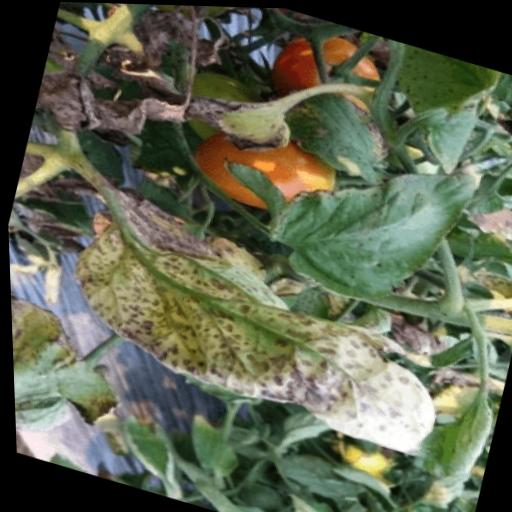Bacterial Spot: (48, 182, 471, 462), (259, 117, 488, 315)
